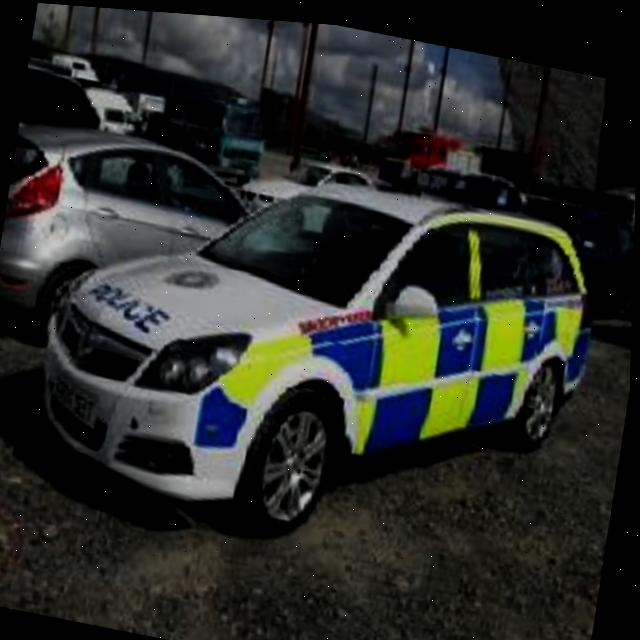emergency: (24, 75, 616, 587)
